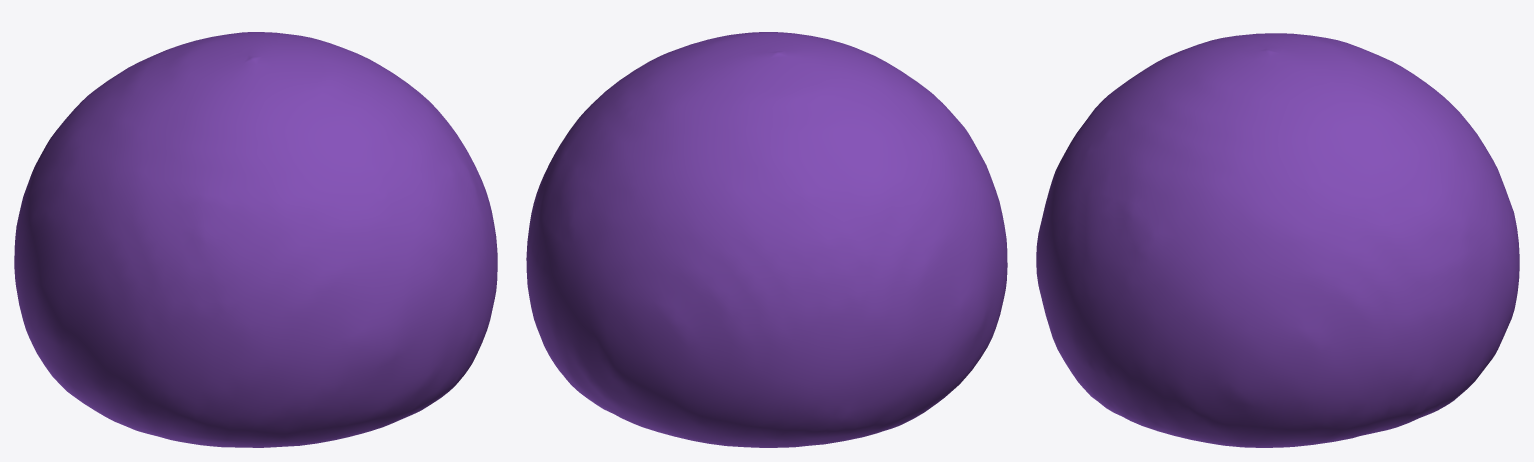
Rendered from slime_0010.dae.
The picture shows the model from 3 angles, left to right: view 1: azimuth 30°, elevation 25°; view 2: azimuth 150°, elevation 25°; view 3: azimuth 270°, elevation 25°; orthographic projection.
Visible parts, largest first — view 1: Slime; view 2: Slime; view 3: Slime.
Part boxes in pixels (x1,y1,x2,y2): Slime: [14, 32, 497, 447]; Slime: [526, 32, 1007, 447]; Slime: [1036, 33, 1519, 447].
Bounding box in the file's own units: 2.06 × 1.76 × 2.06.
